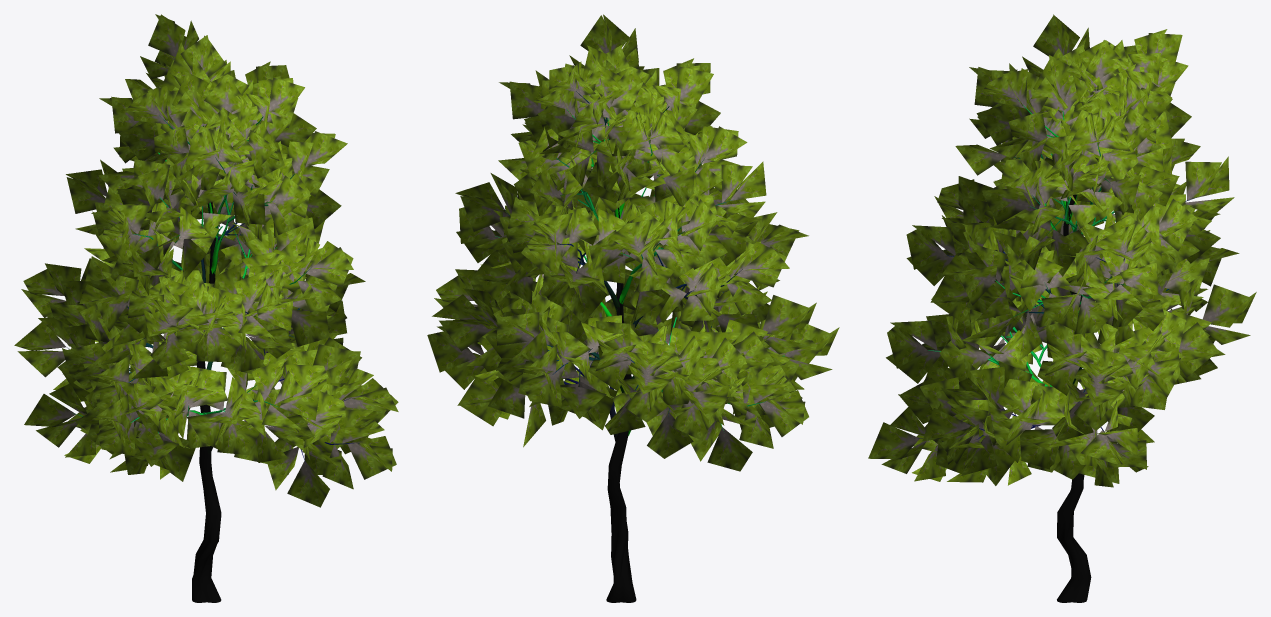
File: ElmTree02.fbx
The picture shows the model from 3 angles, left to right: view 1: azimuth 30°, elevation 25°; view 2: azimuth 150°, elevation 25°; view 3: azimuth 270°, elevation 25°; orthographic projection. The views are drawn at different scales.
Visible parts, largest first — view 1: Tree_1, Tree_0; view 2: Tree_1, Tree_0; view 3: Tree_1, Tree_0.
Boxes of the visible parts, x1,y1,x2,y2 form: Tree_1: [14, 14, 398, 507]; Tree_0: [63, 115, 359, 602]; Tree_1: [427, 14, 839, 471]; Tree_0: [484, 91, 784, 602]; Tree_1: [868, 14, 1256, 487]; Tree_0: [914, 85, 1196, 602].
Bounding box in the file's own units: 64.01 × 96.05 × 59.43.
